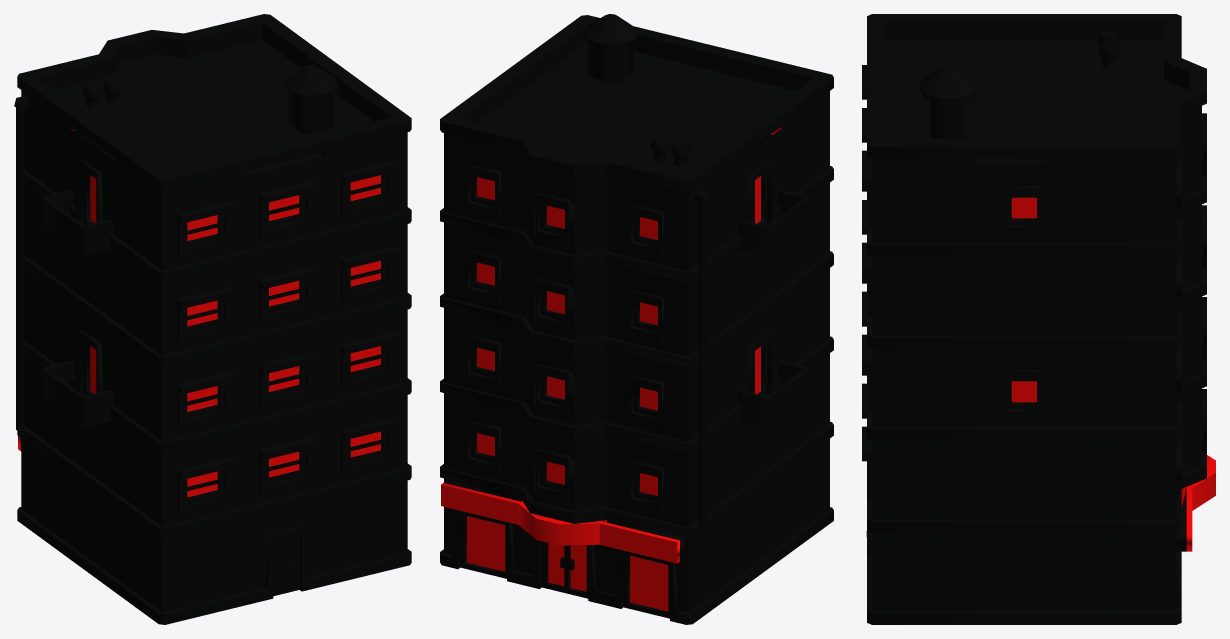
Rendered from building-l.glb.
The picture shows the model from 3 angles, left to right: view 1: azimuth 30°, elevation 25°; view 2: azimuth 150°, elevation 25°; view 3: azimuth 270°, elevation 25°; orthographic projection. The views are drawn at different scales.
Visible parts, largest first — view 1: building-l; view 2: building-l; view 3: building-l.
Part boxes in pixels (bbox=[...]): building-l: bbox=[14, 14, 411, 624]; building-l: bbox=[440, 14, 833, 624]; building-l: bbox=[862, 14, 1215, 624].
Size of the model in its own units: 1.37 by 2.27 by 1.4.
Materials: 1 (1 with a texture image).
